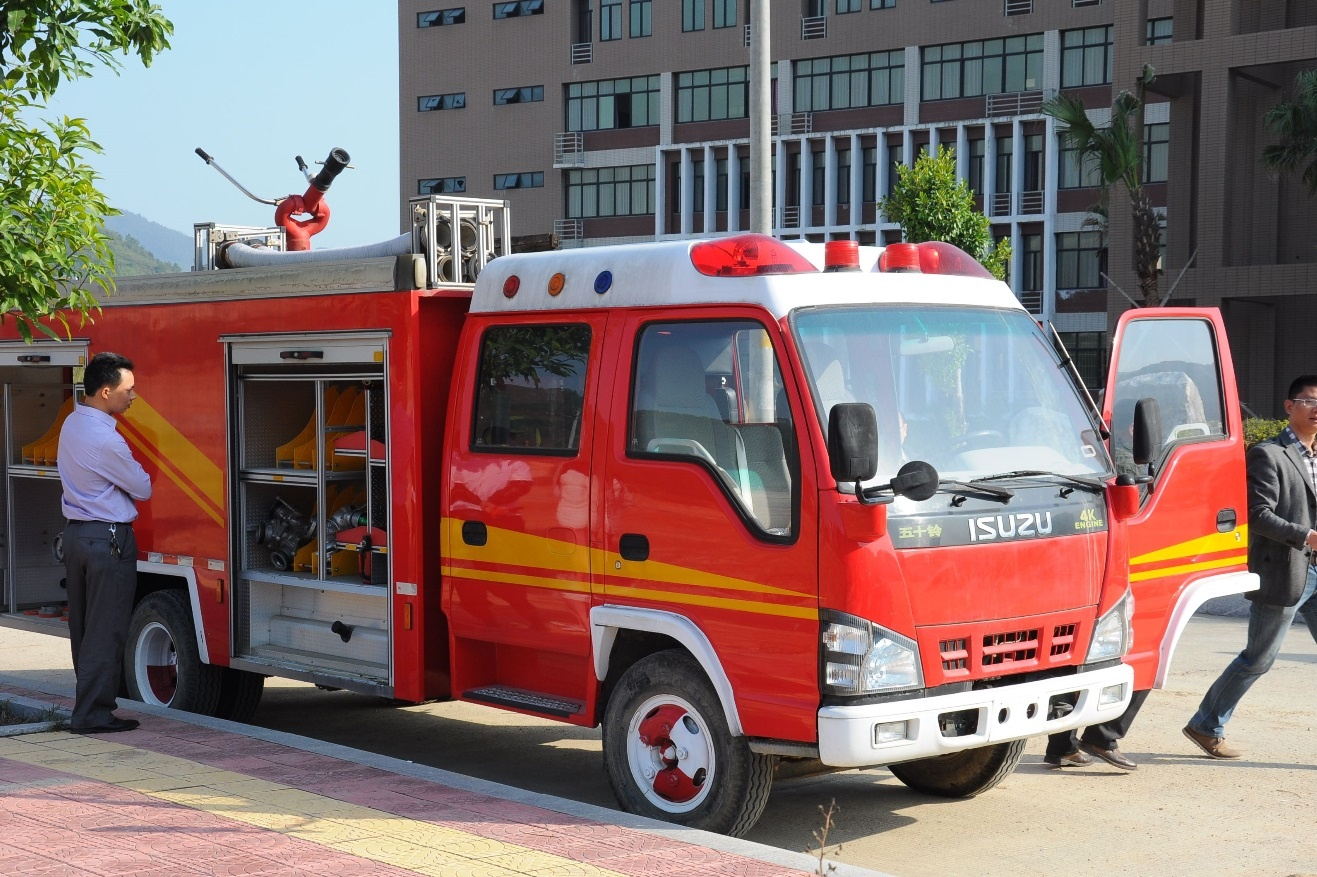fire engine: (4, 185, 1177, 836)
